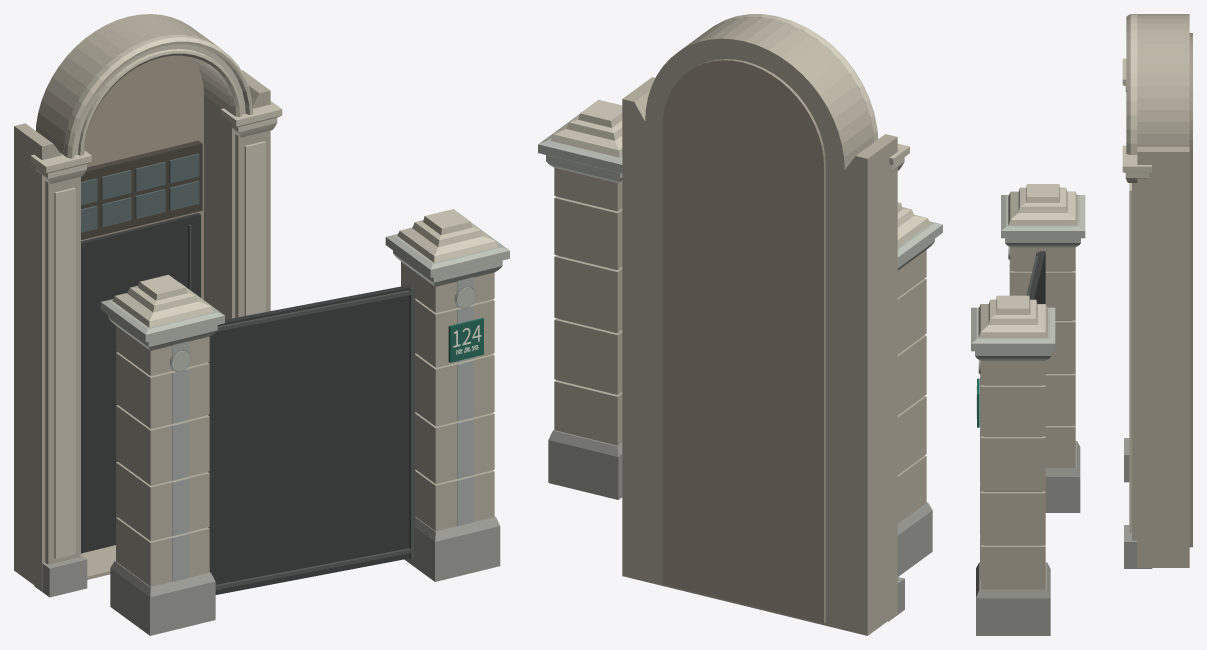
The model's file is huangpu-park-terrace-nanchang-124-portal-lod.glb.
The picture shows the model from 3 angles, left to right: view 1: azimuth 30°, elevation 25°; view 2: azimuth 150°, elevation 25°; view 3: azimuth 270°, elevation 25°; orthographic projection. The views are drawn at different scales.
Visible parts, largest first — view 1: 花园住宅群南昌路124号半圆券门与街柱; view 2: 花园住宅群南昌路124号半圆券门与街柱; view 3: 花园住宅群南昌路124号半圆券门与街柱.
Part boxes in pixels (bbox=[...]): 花园住宅群南昌路124号半圆券门与街柱: bbox=[14, 14, 509, 635]; 花园住宅群南昌路124号半圆券门与街柱: bbox=[538, 14, 942, 635]; 花园住宅群南昌路124号半圆券门与街柱: bbox=[971, 14, 1192, 635].
Size of the model in its own units: 3.05 by 4.02 by 1.63.
